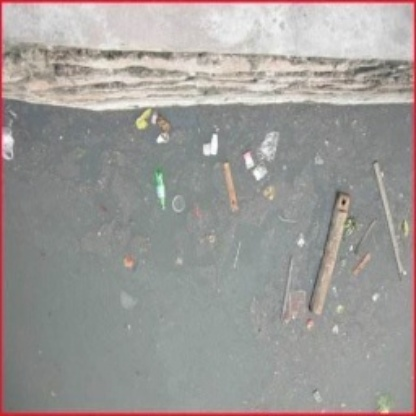bottle: (151, 165, 171, 214)
branch: (305, 189, 354, 320)
